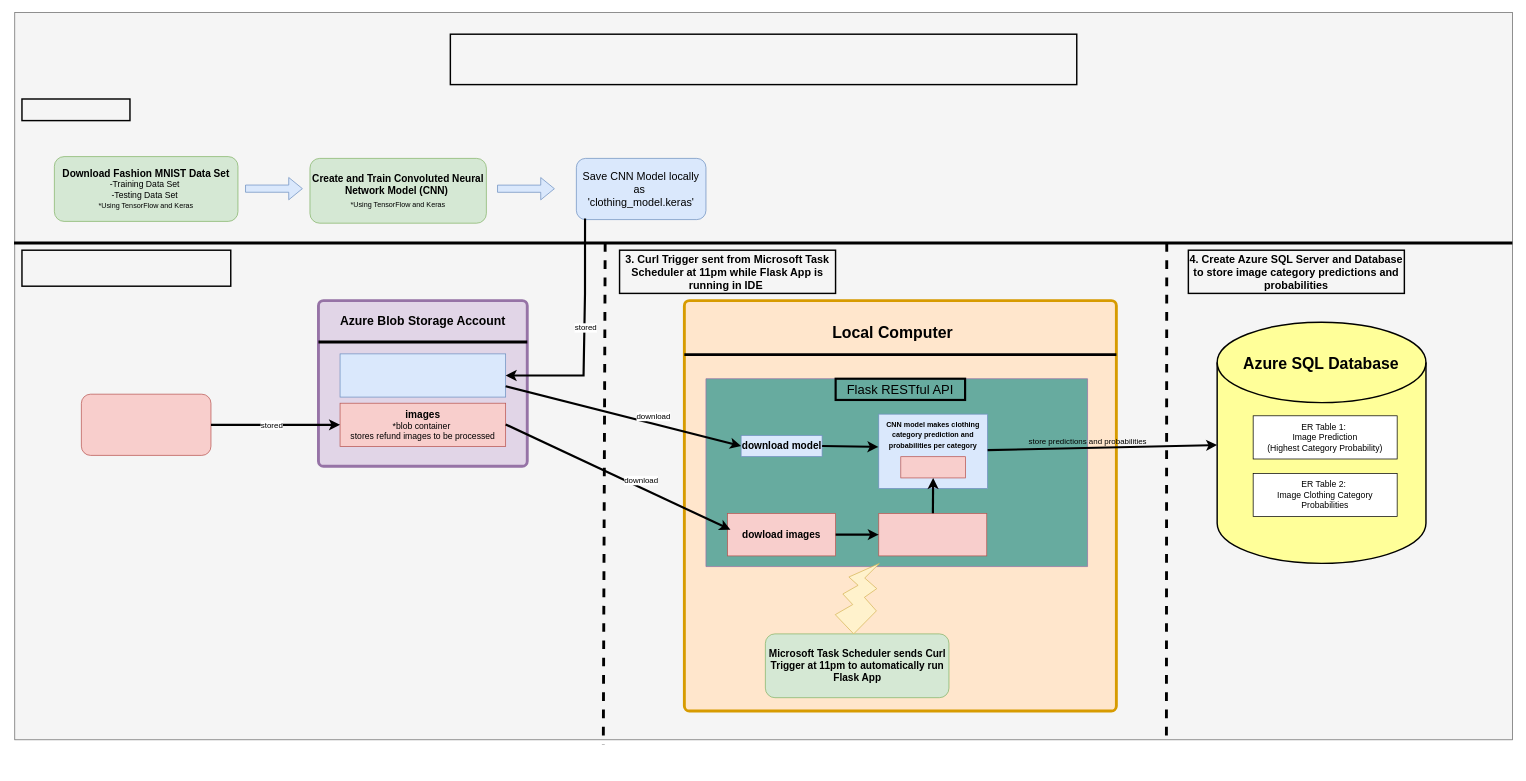
Some shapes in this 1526 by 781 pixel diagram are drawn without their labels. Each missing label, with the centre of its shape:
"1. Train CNN Model" goes at (x=75, y=109).
"2. Create Azure Blob Storage to store Images and CNN Model" goes at (x=126, y=268).
"model *blob container stores CNN model only" goes at (x=422, y=375).
"Original Conceptual Arcitecture of Image Classifcation Azure Cloud Application" goes at (x=763, y=59).
"Photos of refunded products" goes at (x=146, y=424).
"process images to be classified by CNN model" goes at (x=932, y=534).
"processed image" goes at (x=933, y=467).
